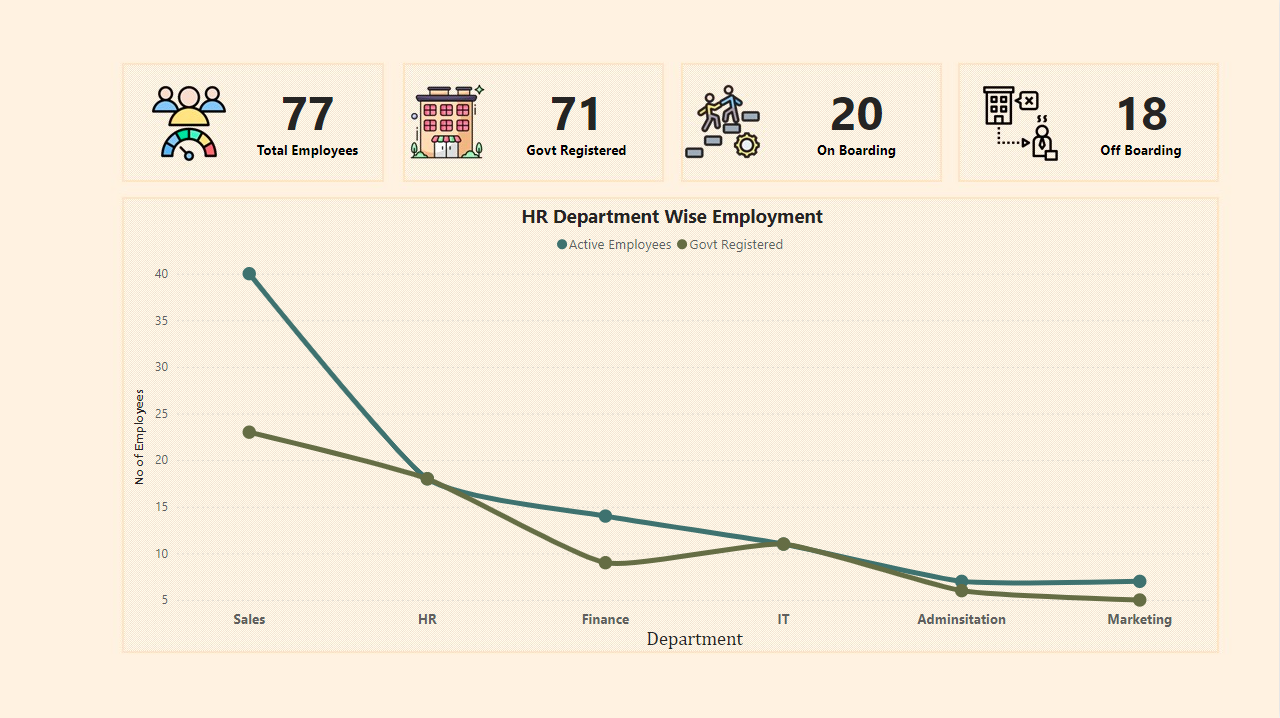

Layout of this report page (visuals, bound fields, positions):
{"tool":"powerbi","page":{"name":"HR","canvas":[1280,720],"ordinal":1},"visuals":[{"type":"lineChart","title":"HR Department Wise Employment","fields":{"Category":["EmployementTable.Department"],"Y":["CountNonNull(EmployementTable.EmpID)","EmployementTable.ActiveEmployees"]},"box":[129.4,205.2,1087.4,450.3],"z":0},{"type":"card","fields":{"Values":["CountNonNull(EmployementTable.DisplayName)"]},"box":[243.2,71,131.3,100.2],"z":1000},{"type":"card","fields":{"Values":["CountNonNull(EmployementTable.DisplayName)"]},"box":[511.6,71,131.3,100.2],"z":2000},{"type":"card","fields":{"Values":["CountNonNull(EmployementTable.DisplayName)"]},"box":[791.7,71,131.3,100.2],"z":3000},{"type":"card","fields":{"Values":["CountNonNull(EmployementTable.DisplayName)"]},"box":[1076.7,71,130.3,100.2],"z":4000},{"type":"pageNavigator","box":[120.8,9.5,1096.3,38],"z":5000}]}

Visuals, with their boxes in screenshot pixels (x1, y1, x2, y2), scaled from the page's 1280x720 canvas onto the 1280x718 screenshot:
"HR Department Wise Employment" lineChart: <box>129,205,1217,654</box>
card - CountNonNull(EmployementTable.DisplayName): <box>243,71,374,171</box>
card - CountNonNull(EmployementTable.DisplayName): <box>512,71,643,171</box>
card - CountNonNull(EmployementTable.DisplayName): <box>792,71,923,171</box>
card - CountNonNull(EmployementTable.DisplayName): <box>1077,71,1207,171</box>
pageNavigator: <box>121,9,1217,47</box>
